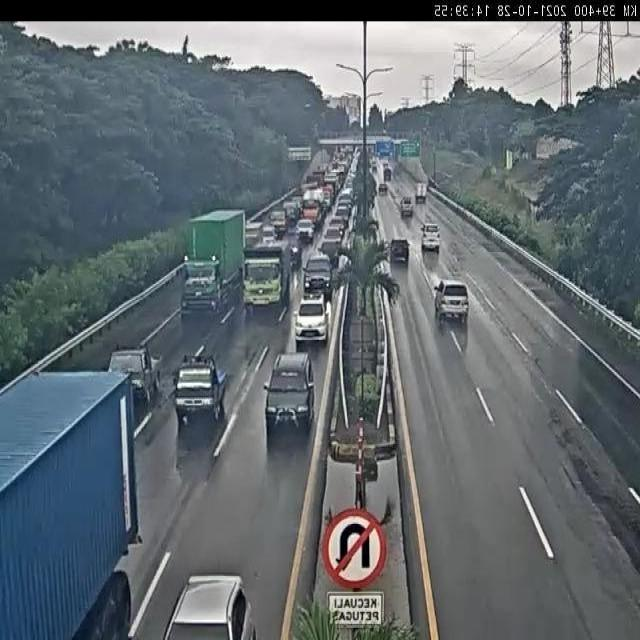Car: (158, 574, 258, 640), (264, 351, 316, 442), (292, 292, 330, 346), (436, 277, 470, 323), (302, 252, 333, 300), (320, 230, 341, 263), (390, 238, 410, 265), (421, 223, 440, 251), (270, 209, 288, 238), (296, 217, 315, 244), (400, 196, 414, 218), (261, 225, 276, 244), (378, 182, 388, 194)
Truck: (0, 362, 142, 640), (182, 209, 250, 326), (172, 349, 227, 427), (241, 241, 292, 323), (107, 344, 160, 411), (301, 188, 324, 222)
